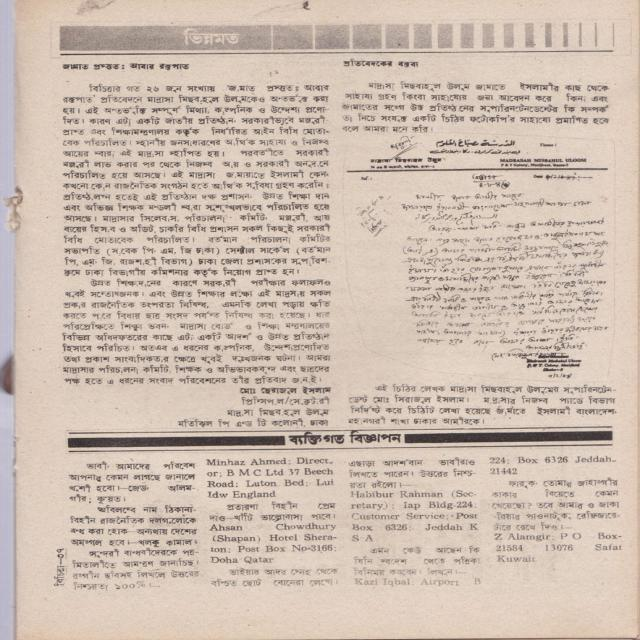image: (344, 134, 613, 382)
page number: (57, 549, 67, 565)
paragraph: (62, 84, 333, 278), (63, 278, 334, 386), (342, 81, 609, 134), (489, 477, 626, 566), (347, 456, 481, 544), (349, 384, 616, 426), (206, 500, 340, 566), (202, 456, 339, 501), (69, 547, 203, 592), (64, 459, 197, 504), (351, 545, 486, 589), (67, 504, 201, 547), (208, 566, 342, 590), (487, 453, 619, 477)
text: (178, 395, 329, 429), (240, 388, 331, 395), (54, 565, 67, 586)
title: (286, 430, 405, 448), (62, 62, 189, 71), (184, 29, 238, 45), (344, 60, 419, 69)
